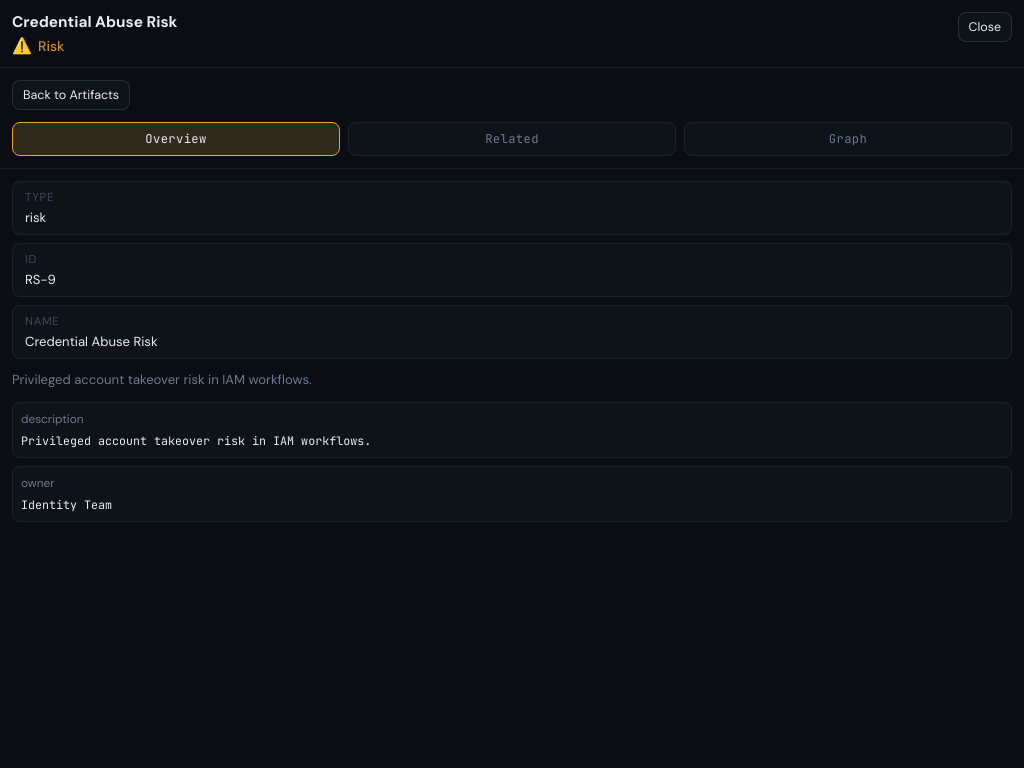
EntityDetailPanel › shows related entities derived from source and target graph edges
This screenshot has width=1024, height=768.
Click the tab "Related": click(512, 139) [348, 122, 676, 156]
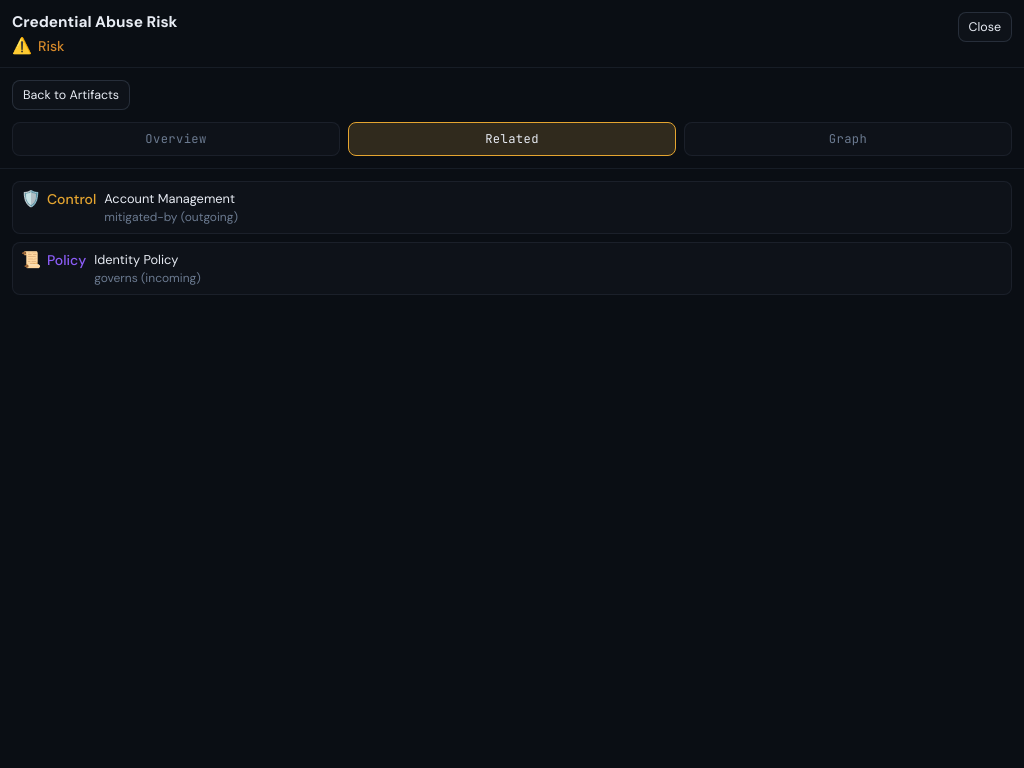
Expected: the text "Account Management" is shown, [104, 190, 235, 207]
Expected: the text "Identity Policy" is shown, [94, 251, 178, 268]
Expected: the text "mitigated-by (outgoing)" is shown, [104, 209, 238, 225]
